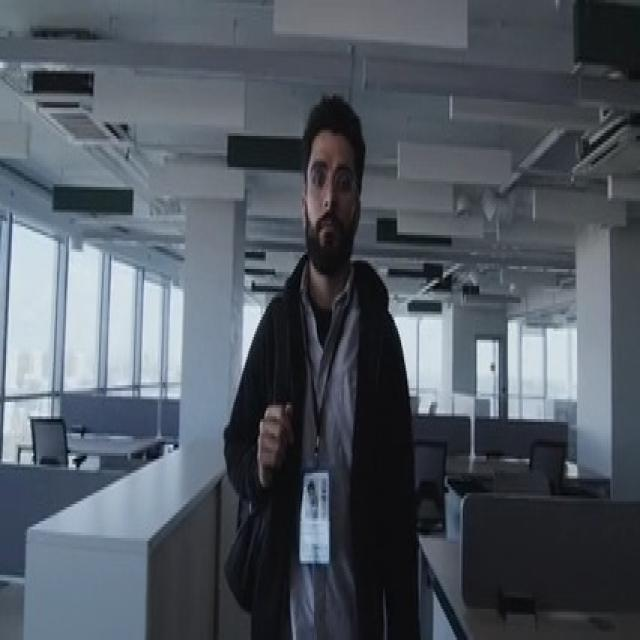Jacket_Wearer: (220, 246, 418, 638)
Person: (218, 99, 430, 640)
